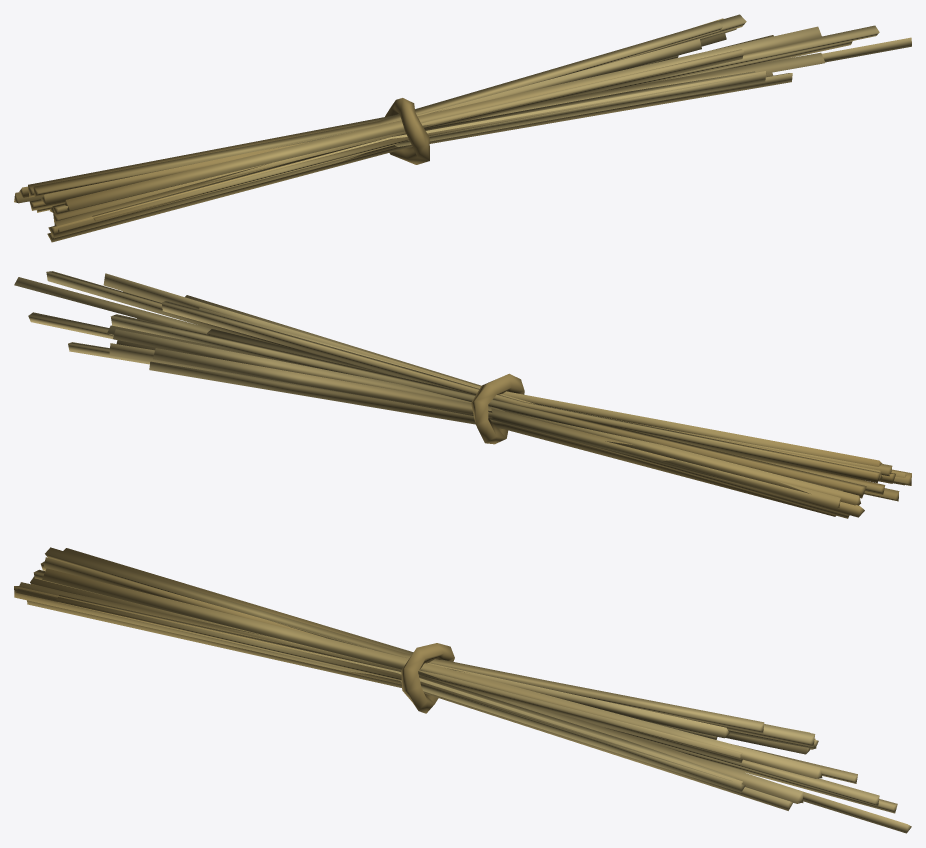
File: straw.glb
3 views of the same model, one above another, from view 1: azimuth 30°, elevation 25°; view 2: azimuth 150°, elevation 25°; view 3: azimuth 330°, elevation 25° (orthographic). The views are drawn at different scales.
Visible parts, largest first — view 1: straw; view 2: straw; view 3: straw.
Part boxes in pixels (box(x1,y1,x2,y2)): straw: box(14, 14, 911, 242); straw: box(14, 271, 911, 518); straw: box(14, 547, 911, 833).
Size of the model in its own units: 0.4916 by 0.0344 by 0.0636.
